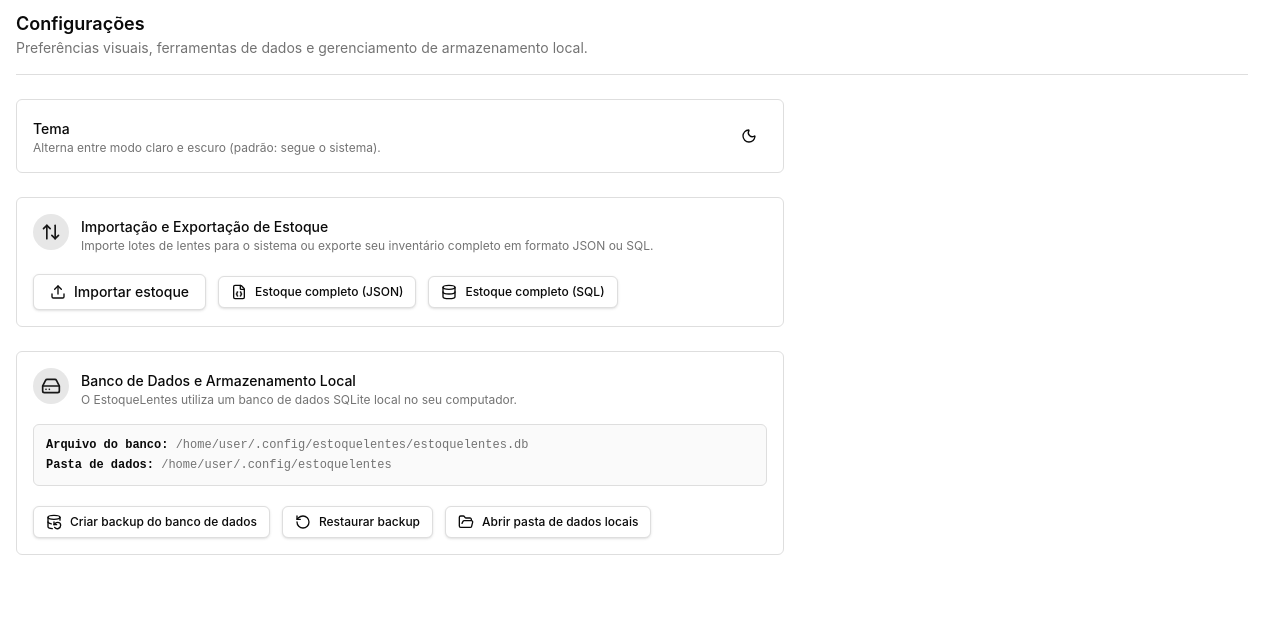
SettingsView › displays error message when database backup fails
Click the button "Criar backup do banco de dados" at {"x": 151, "y": 522}, box [33,506,270,538]
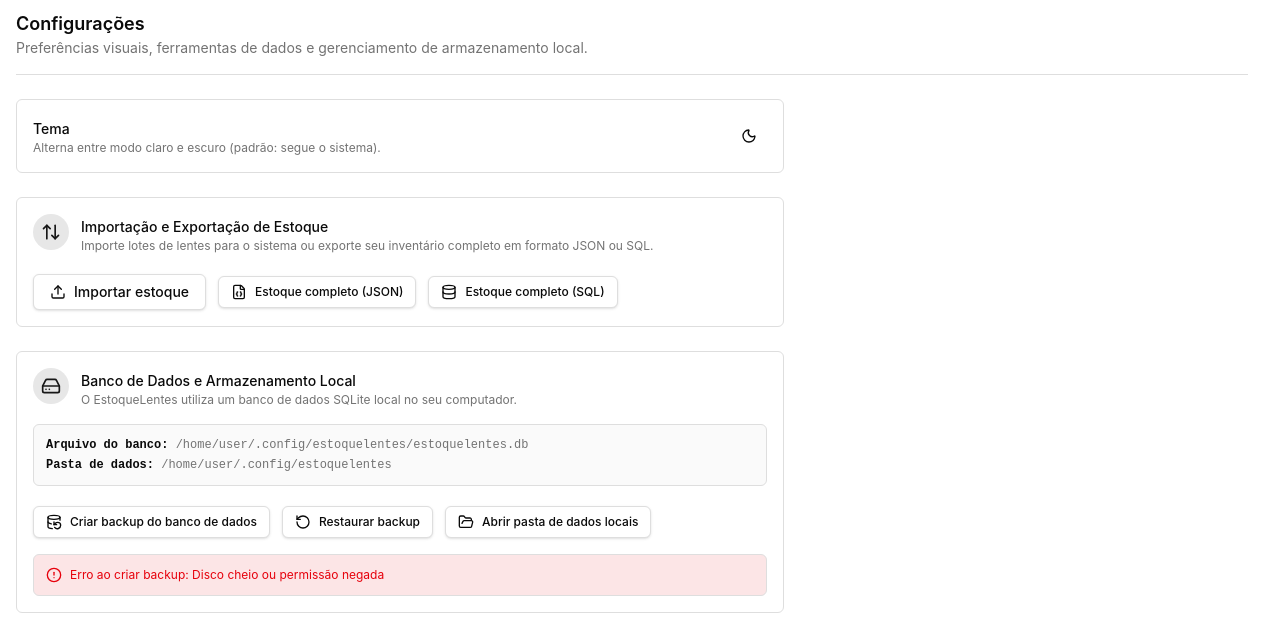
Expected: the text "Erro ao criar backup: Disco cheio ou permissão negada" is shown, [70,567,384,583]
